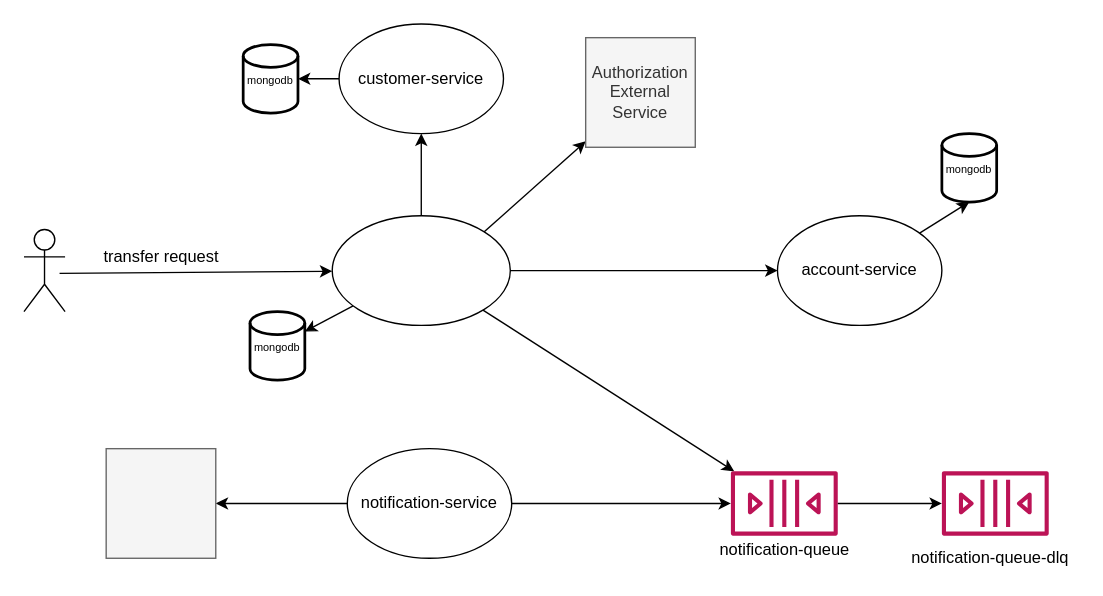
This 1103x596 diagram has some shape labels left out. The shapes that lost their labels are listed below. From the top down, each one's centre as x and y in pixels, then its label:
the point at 420,269: money-transfer-service
the point at 160,502: notification External service
